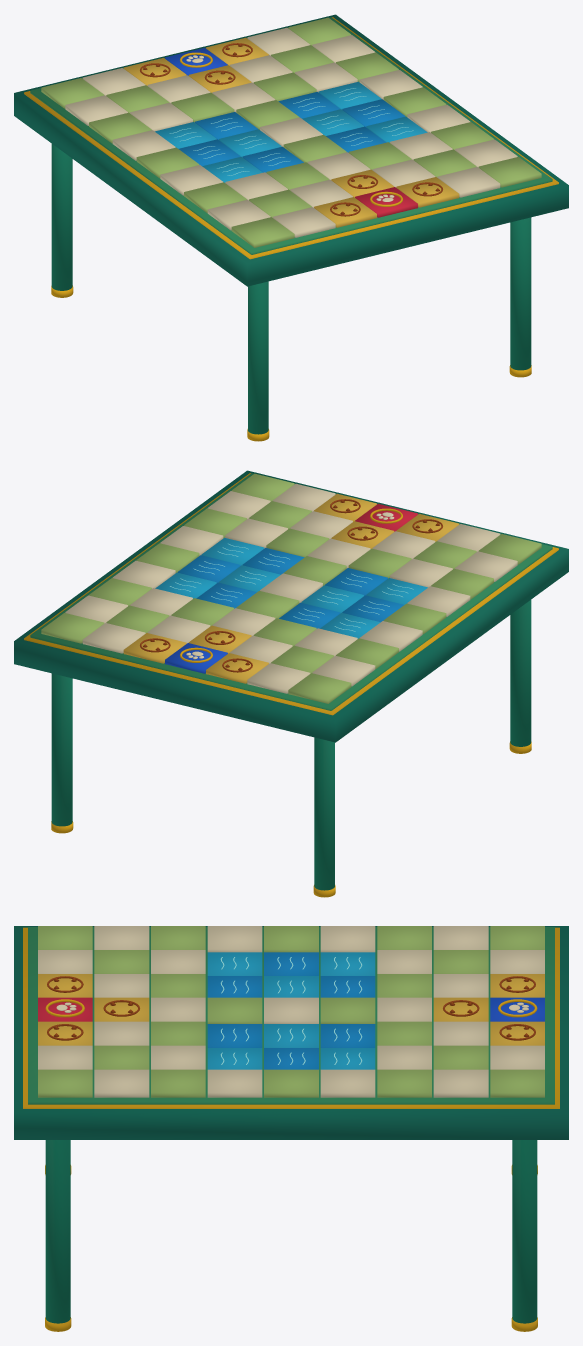
Rendered from board.glb.
3 renders of one model, top to bottom at view 1: azimuth 30°, elevation 25°; view 2: azimuth 150°, elevation 25°; view 3: azimuth 270°, elevation 25°, orthographic. The views are drawn at different scales.
Parts seen in each view (by area): view 1: world; view 2: world; view 3: world.
Boxes of the visible parts, x1,y1,x2,y2 form: world: (14, 14, 568, 441); world: (14, 470, 568, 897); world: (14, 926, 568, 1331).
Bounding box in the file's own units: 1.25 × 0.7635 × 1.57.
